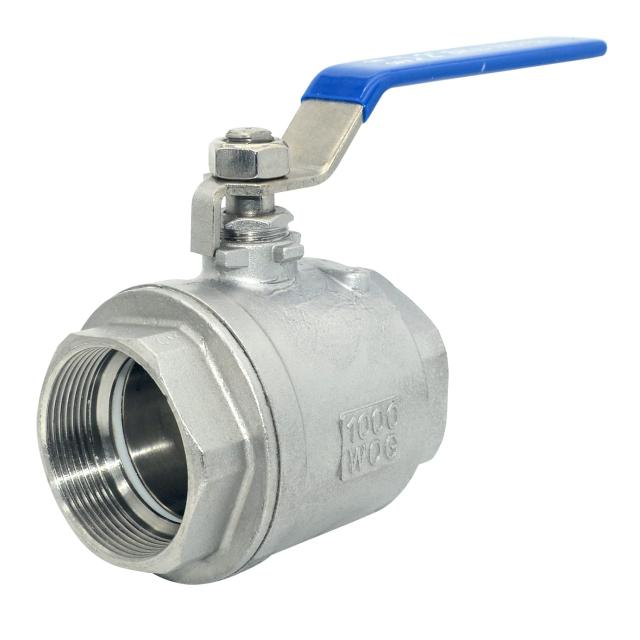Lever Handle Valve Threaded: (25, 24, 619, 304)
